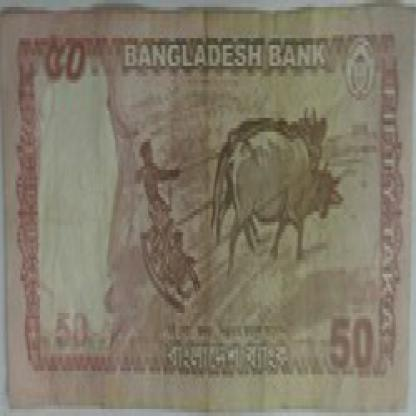Fifty taka: (320, 302, 390, 374), (40, 28, 91, 90)
